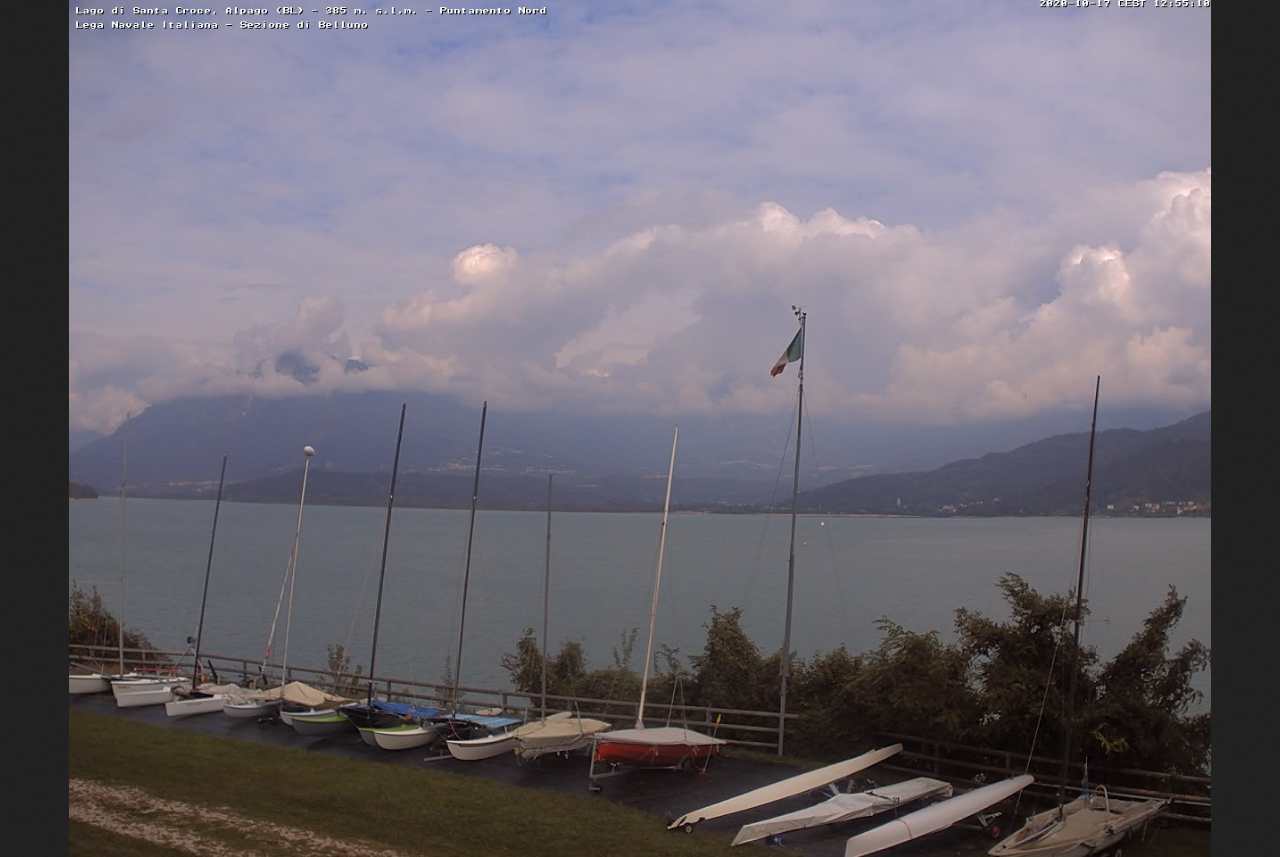maybe: (772, 325, 803, 376)
